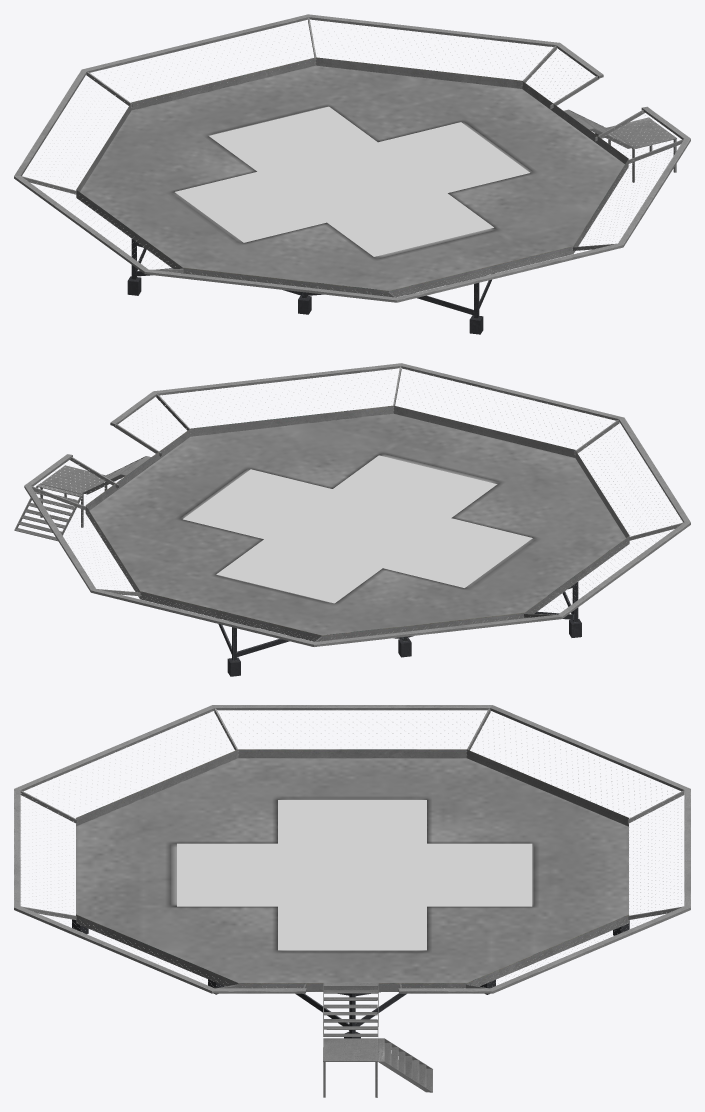
Rendered from Helipad.fbx.
The picture shows the model from 3 angles, top to bottom: view 1: azimuth 30°, elevation 25°; view 2: azimuth 150°, elevation 25°; view 3: azimuth 270°, elevation 25°; orthographic projection. The views are drawn at different scales.
Visible parts, largest first — view 1: pln_helikopter_pisti_pln_helikopter_pisti_0.001, pln_helikopter_pisti_pln_helikopter_pisti_0.003, pln_helikopter_pisti_pln_helikopter_pisti_0, pln_helikopter_pisti_pln_helikopter_pisti_0.002; view 2: pln_helikopter_pisti_pln_helikopter_pisti_0.001, pln_helikopter_pisti_pln_helikopter_pisti_0.003, pln_helikopter_pisti_pln_helikopter_pisti_0, pln_helikopter_pisti_pln_helikopter_pisti_0.002; view 3: pln_helikopter_pisti_pln_helikopter_pisti_0.001, pln_helikopter_pisti_pln_helikopter_pisti_0.003, pln_helikopter_pisti_pln_helikopter_pisti_0, pln_helikopter_pisti_pln_helikopter_pisti_0.002.
Boxes of the visible parts, left/top/right/bottom form: pln_helikopter_pisti_pln_helikopter_pisti_0.001: left=76, top=57, right=628, bottom=297; pln_helikopter_pisti_pln_helikopter_pisti_0.003: left=175, top=106, right=529, bottom=256; pln_helikopter_pisti_pln_helikopter_pisti_0: left=14, top=14, right=690, bottom=334; pln_helikopter_pisti_pln_helikopter_pisti_0.002: left=24, top=19, right=681, bottom=297; pln_helikopter_pisti_pln_helikopter_pisti_0.001: left=85, top=405, right=629, bottom=641; pln_helikopter_pisti_pln_helikopter_pisti_0.003: left=183, top=455, right=532, bottom=603; pln_helikopter_pisti_pln_helikopter_pisti_0: left=14, top=363, right=690, bottom=676; pln_helikopter_pisti_pln_helikopter_pisti_0.002: left=37, top=368, right=682, bottom=640; pln_helikopter_pisti_pln_helikopter_pisti_0.001: left=76, top=749, right=628, bottom=991; pln_helikopter_pisti_pln_helikopter_pisti_0.003: left=177, top=800, right=532, bottom=950; pln_helikopter_pisti_pln_helikopter_pisti_0: left=14, top=705, right=690, bottom=1097; pln_helikopter_pisti_pln_helikopter_pisti_0.002: left=20, top=710, right=682, bottom=988.
Bounding box in the file's own units: 1727 × 229 × 1613.
Materials: 2 (1 with a texture image).
